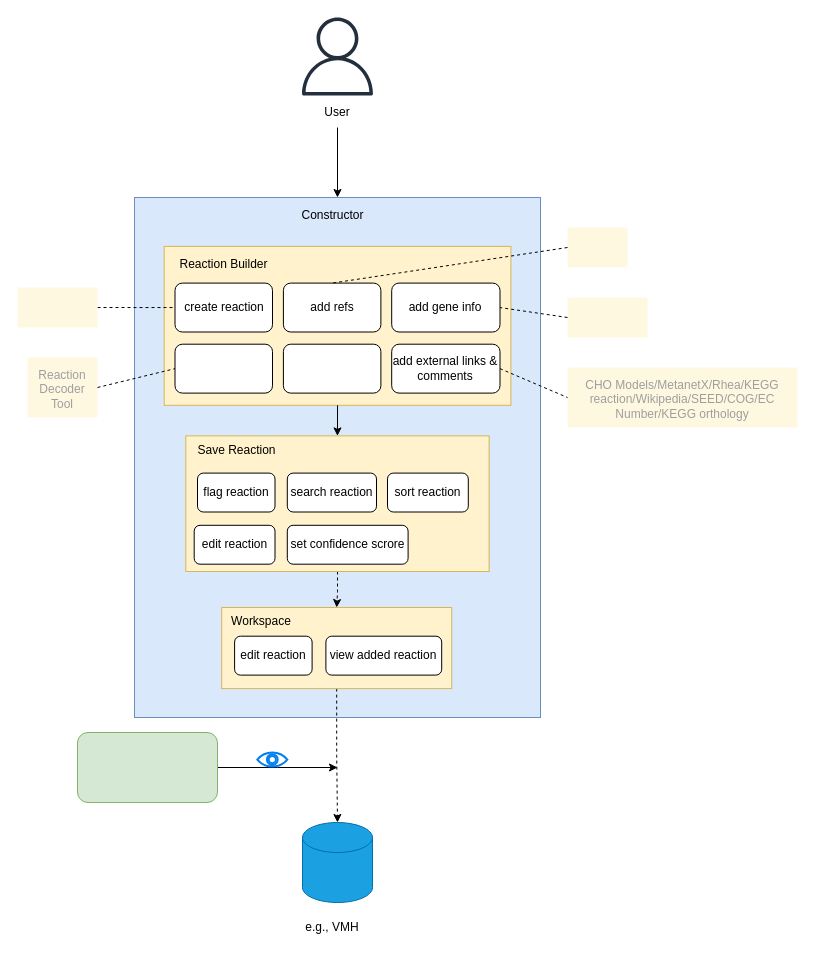
Some shapes in this 814 by 959 pixel diagram are drawn without their labels. Here are the shapes that lost their labels. From the top down, the box of each, then its label:
(567, 227, 627, 267): PMID/DOI
(17, 287, 97, 327): Rhea/VMH
(567, 297, 647, 337): HGNC/NCBI
(174, 343, 272, 393): atom atom mapping
(282, 343, 381, 393): mass and charge balance
(76, 732, 218, 802): Admin Console User privilege control Reaction reversion
(302, 822, 372, 902): any external DB
